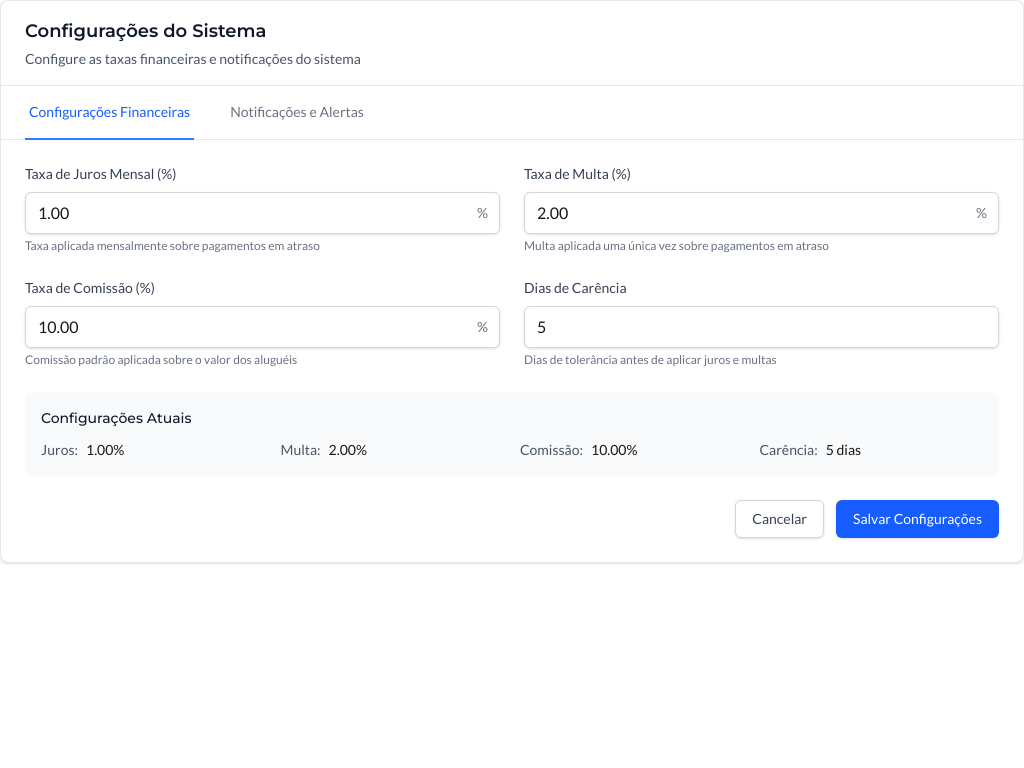
it: ConfiguracoesFinanceiras › deve alternar entre as abas corretamente
Expected: the heading "Configurações do Sistema" is shown, [25,20,266,42]
// Clicar na aba de notificações
Click the button "Notificações e Alertas" at point(297, 113), box [226,86,368,140]
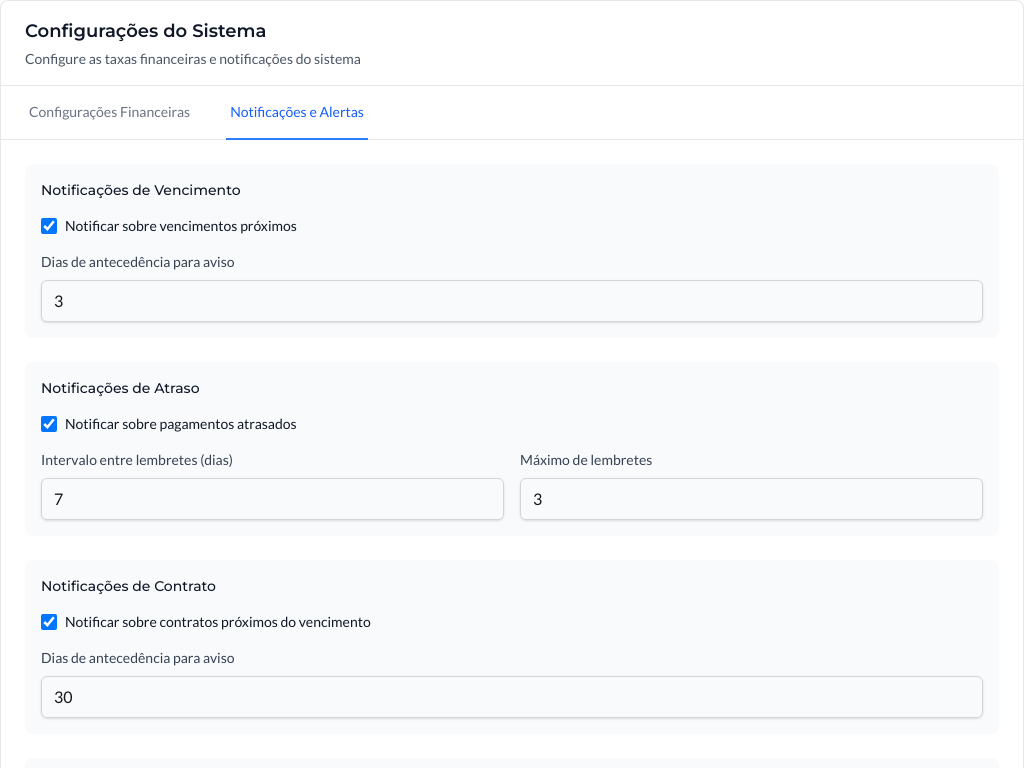
Expected: the heading "Notificações de Vencimento" is shown, [41,181,241,199]
Expected: the heading "Notificações de Atraso" is shown, [41,379,200,397]
Expected: the heading "Notificações de Contrato" is shown, [41,577,216,595]
